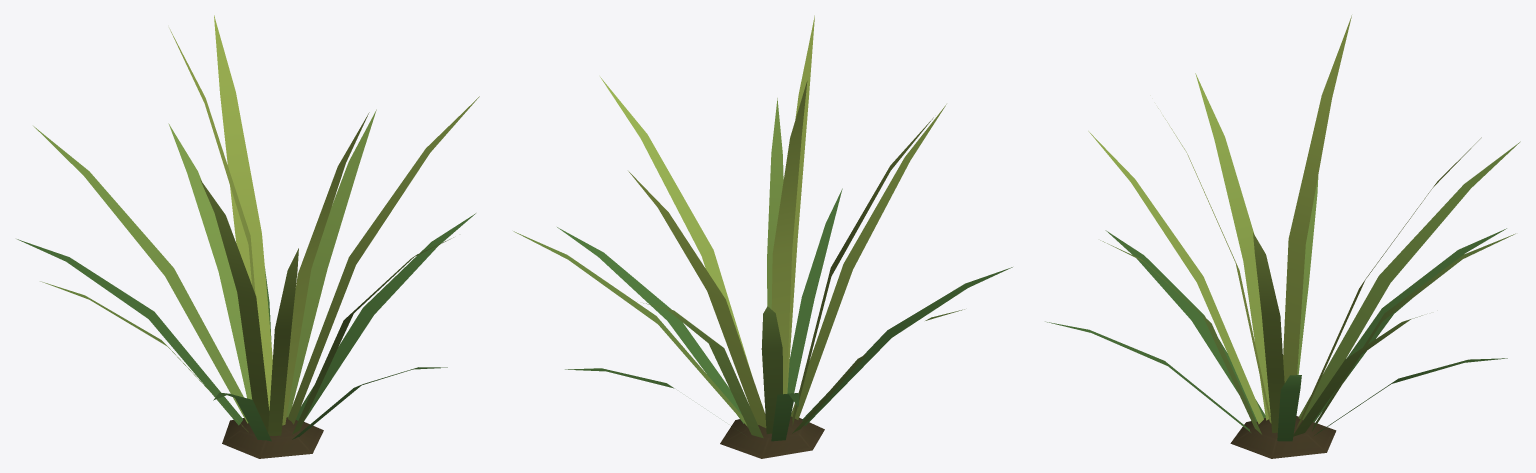
File: grass_tuft_1.glb
3 renders of one model, left to right at view 1: azimuth 30°, elevation 25°; view 2: azimuth 150°, elevation 25°; view 3: azimuth 270°, elevation 25°, orthographic. The views are drawn at different scales.
Parts seen in each view (by area): view 1: grass_tuft_1; view 2: grass_tuft_1; view 3: grass_tuft_1.
Boxes of the visible parts, x1,y1,x2,y2 form: grass_tuft_1: (17, 15, 479, 458); grass_tuft_1: (513, 15, 1012, 458); grass_tuft_1: (1045, 15, 1520, 458).
Bounding box in the file's own units: 0.5 × 0.45 × 0.5.
Materials: 2 (2 with a texture image).
